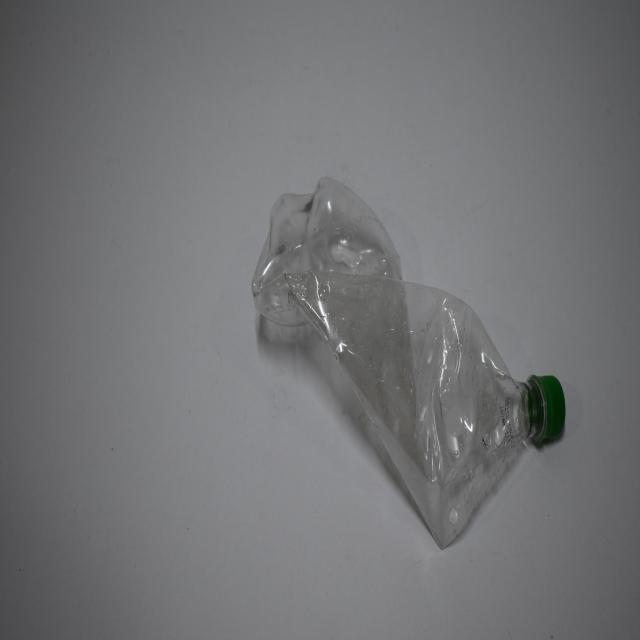bottle: (252, 170, 570, 559)
